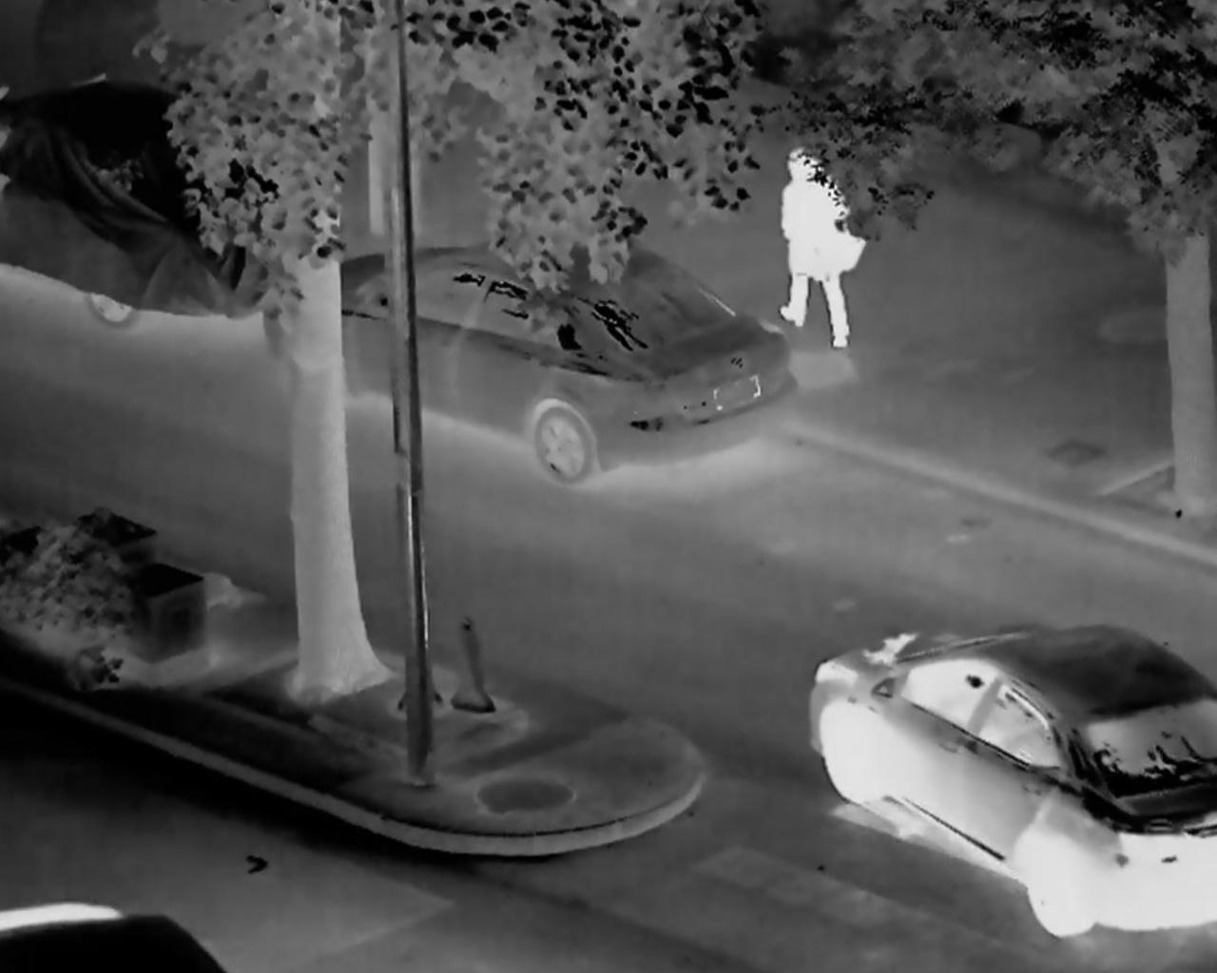person: (775, 140, 890, 387)
